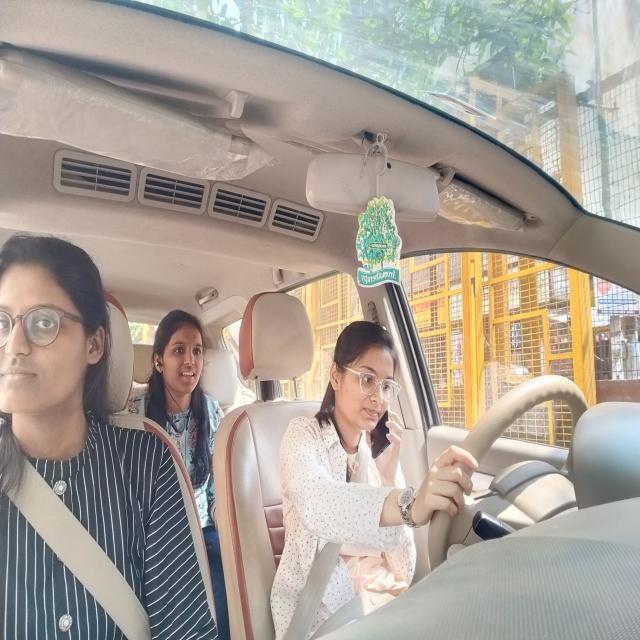mobile: (370, 411, 393, 461)
person: (1, 232, 111, 446), (328, 316, 400, 456), (150, 309, 212, 409)
